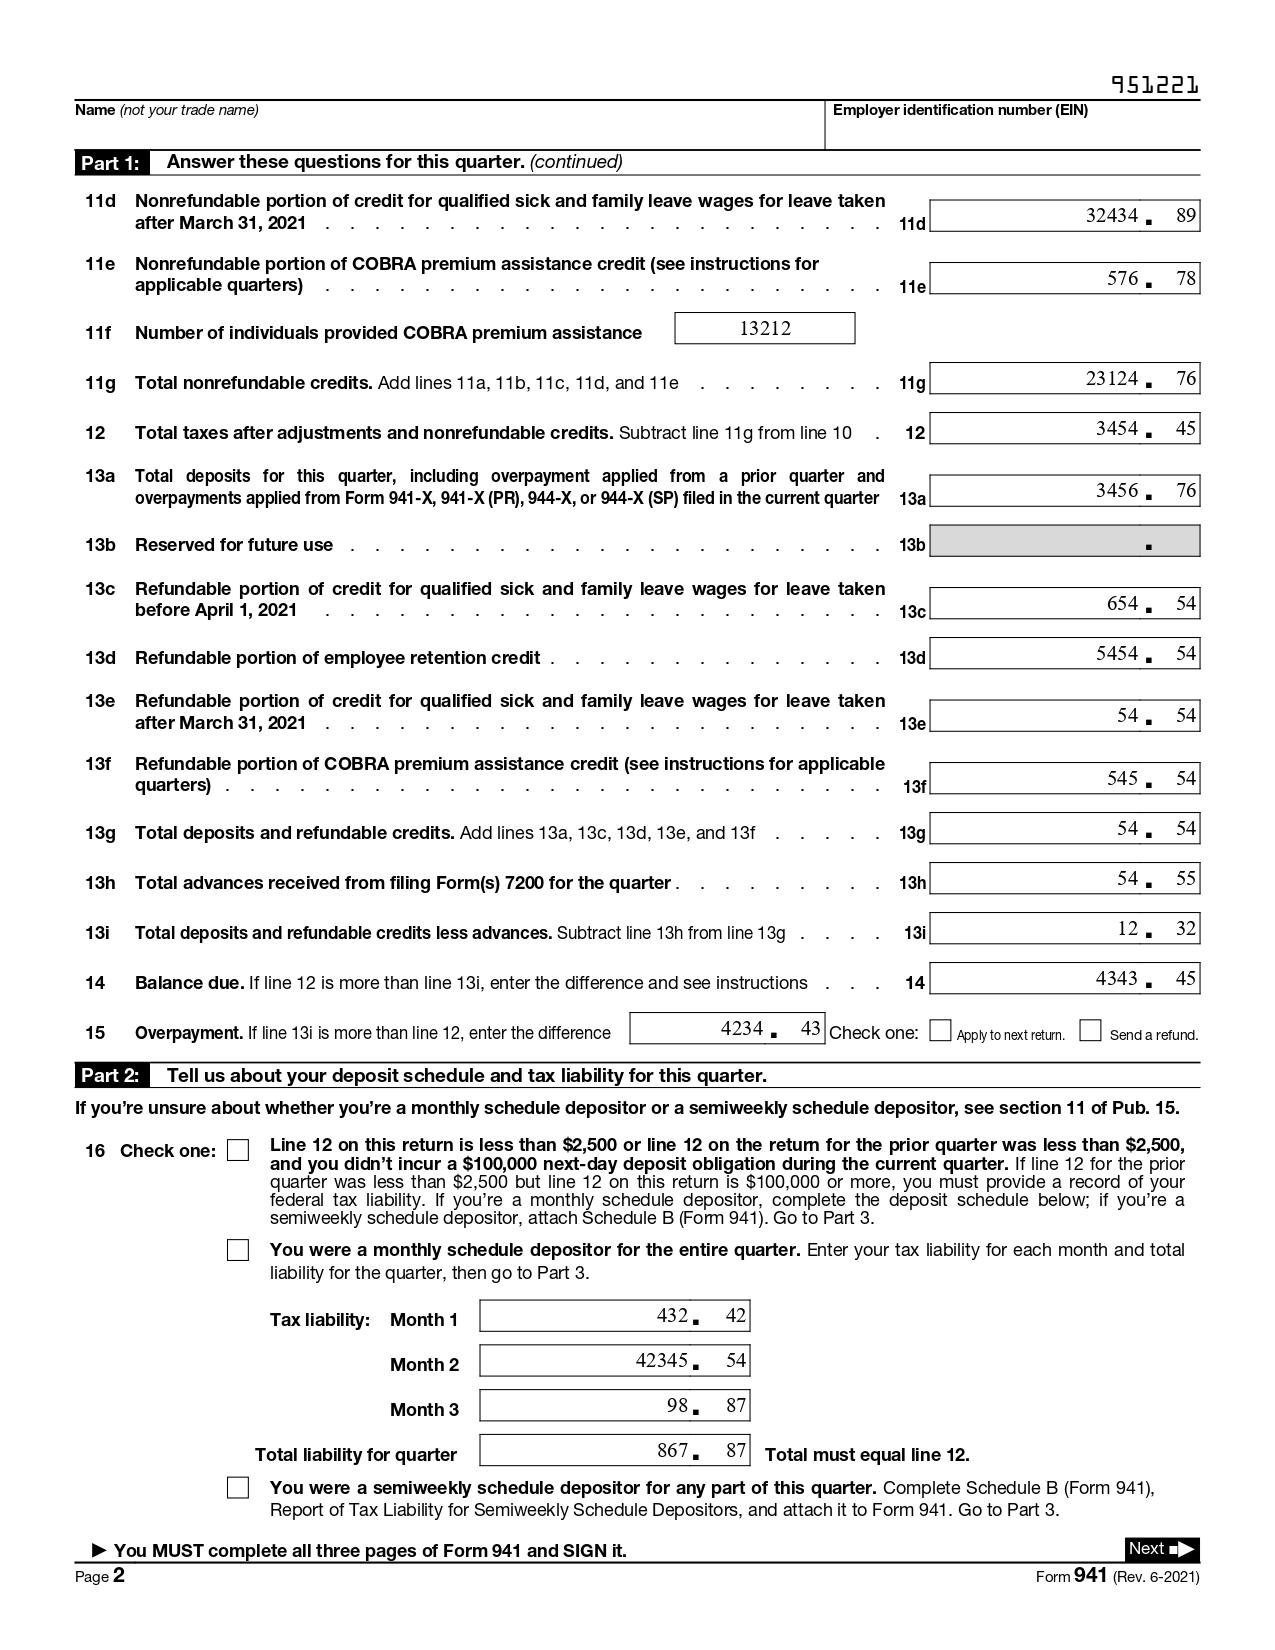form: (71, 1130, 1213, 1532)
table: (75, 174, 1218, 1054)
